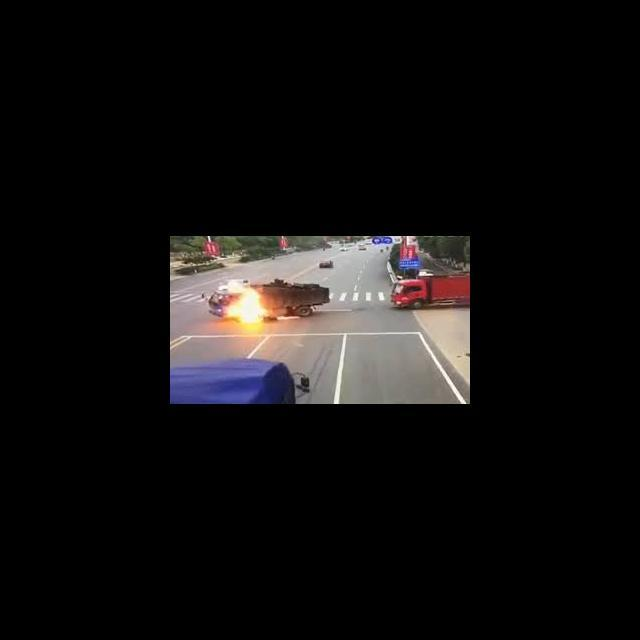Fire: (218, 282, 268, 328)
